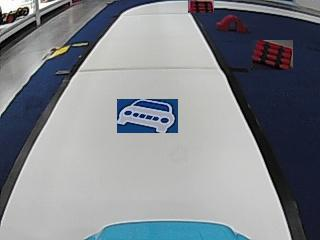bridge: (216, 14, 246, 32)
